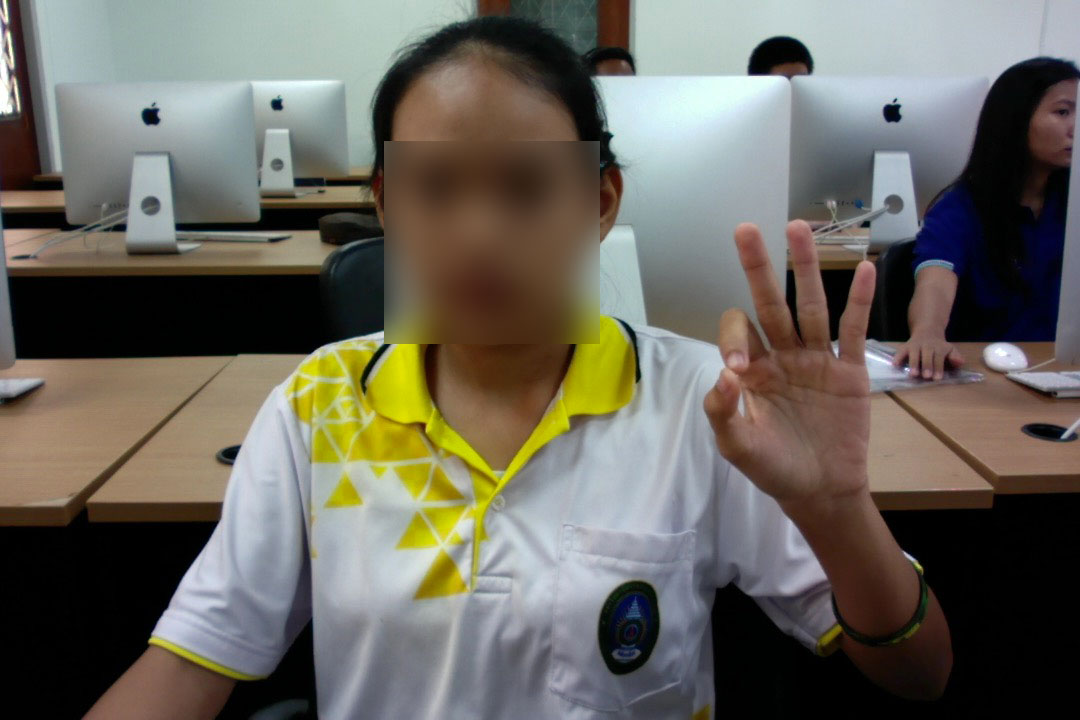for: (679, 207, 895, 550)
